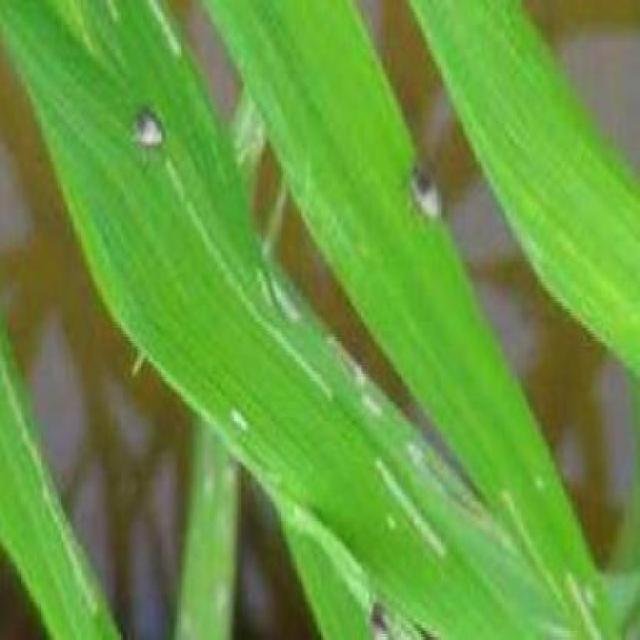rice-bug: (408, 165, 444, 221), (132, 103, 165, 149), (369, 606, 393, 640)
